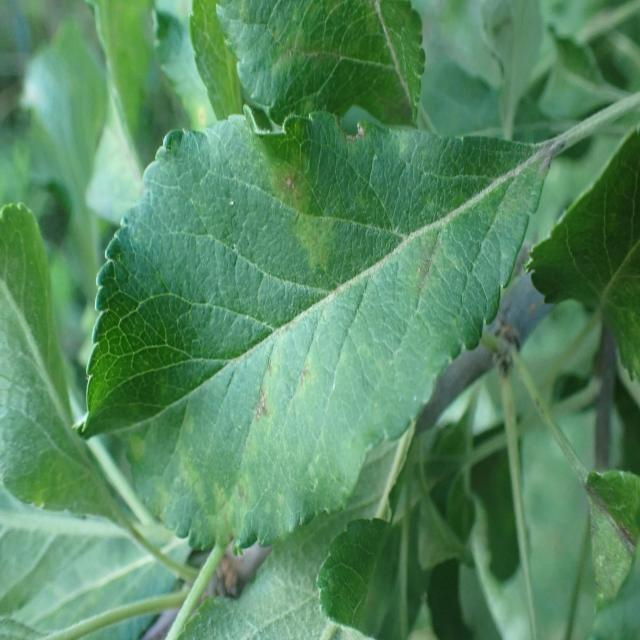scab: (153, 118, 479, 531), (225, 0, 388, 97)
